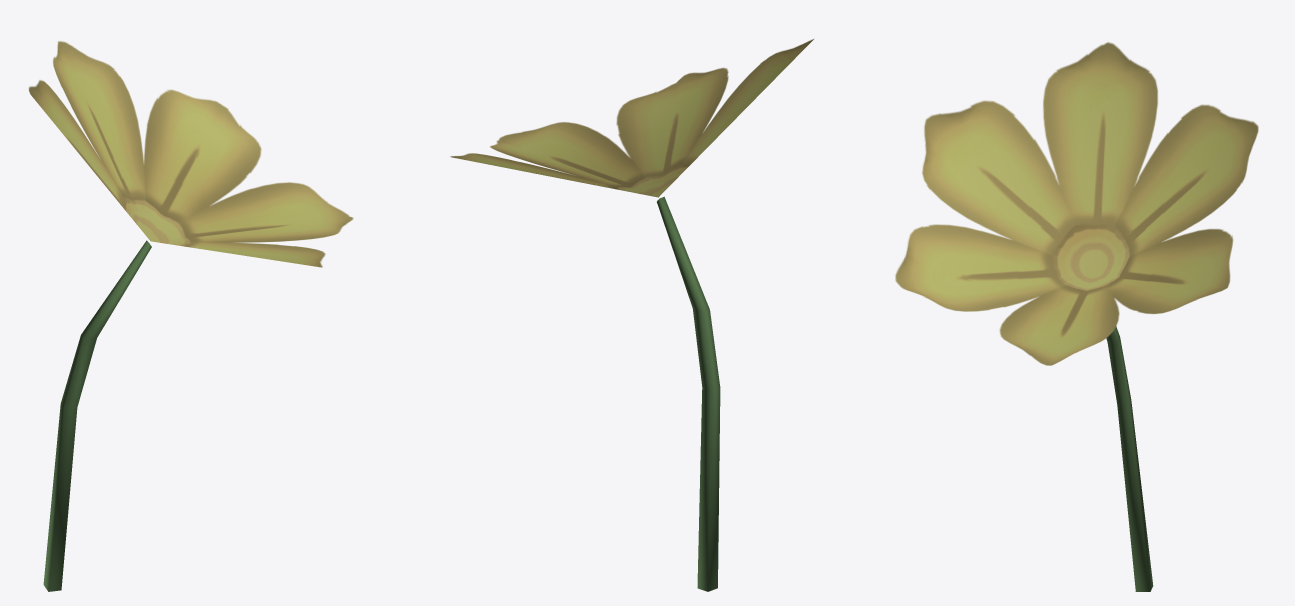
Rendered from flower_2.glb.
The picture shows the model from 3 angles, left to right: view 1: azimuth 30°, elevation 25°; view 2: azimuth 150°, elevation 25°; view 3: azimuth 270°, elevation 25°; orthographic projection. The views are drawn at different scales.
Visible parts, largest first — view 1: Flower_2; view 2: Flower_2; view 3: Flower_2.
Boxes of the visible parts, left/top/right/bottom form: Flower_2: left=28, top=41, right=353, bottom=591; Flower_2: left=450, top=39, right=813, bottom=591; Flower_2: left=895, top=42, right=1258, bottom=591.
Bounding box in the file's own units: 0.239 × 0.3613 × 0.2473.
1 material, 1 textured.
